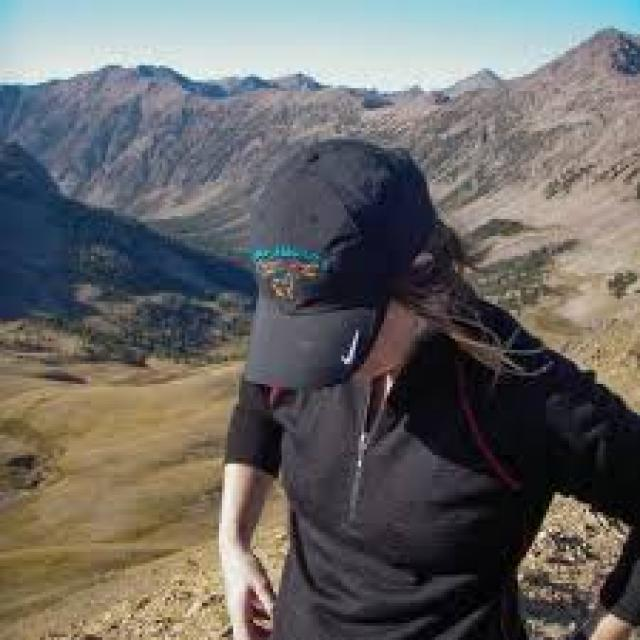3_gorra: (238, 136, 432, 393)
